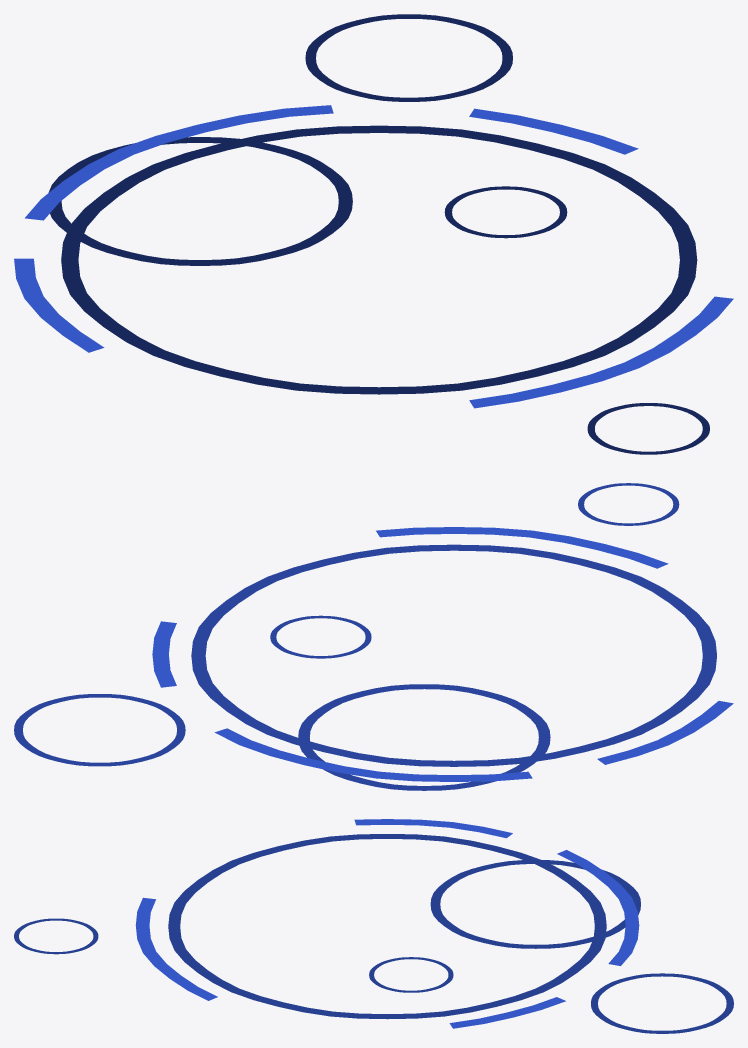
Rendered from galaxymapcircles.dae.
3 renders of one model, top to bottom at view 1: azimuth 30°, elevation 25°; view 2: azimuth 150°, elevation 25°; view 3: azimuth 270°, elevation 25°, orthographic. The views are drawn at different scales.
Parts seen in each view (by area): view 1: MULT[GalaxymapCircles]_LOD[0]; view 2: MULT[GalaxymapCircles]_LOD[0]; view 3: MULT[GalaxymapCircles]_LOD[0].
Part boxes in pixels (x1,y1,x2,y2): MULT[GalaxymapCircles]_LOD[0]: (14,14,733,454); MULT[GalaxymapCircles]_LOD[0]: (14,483,733,790); MULT[GalaxymapCircles]_LOD[0]: (14,819,733,1033).
Size of the model in its own units: 820 by 5.26 by 1167.
